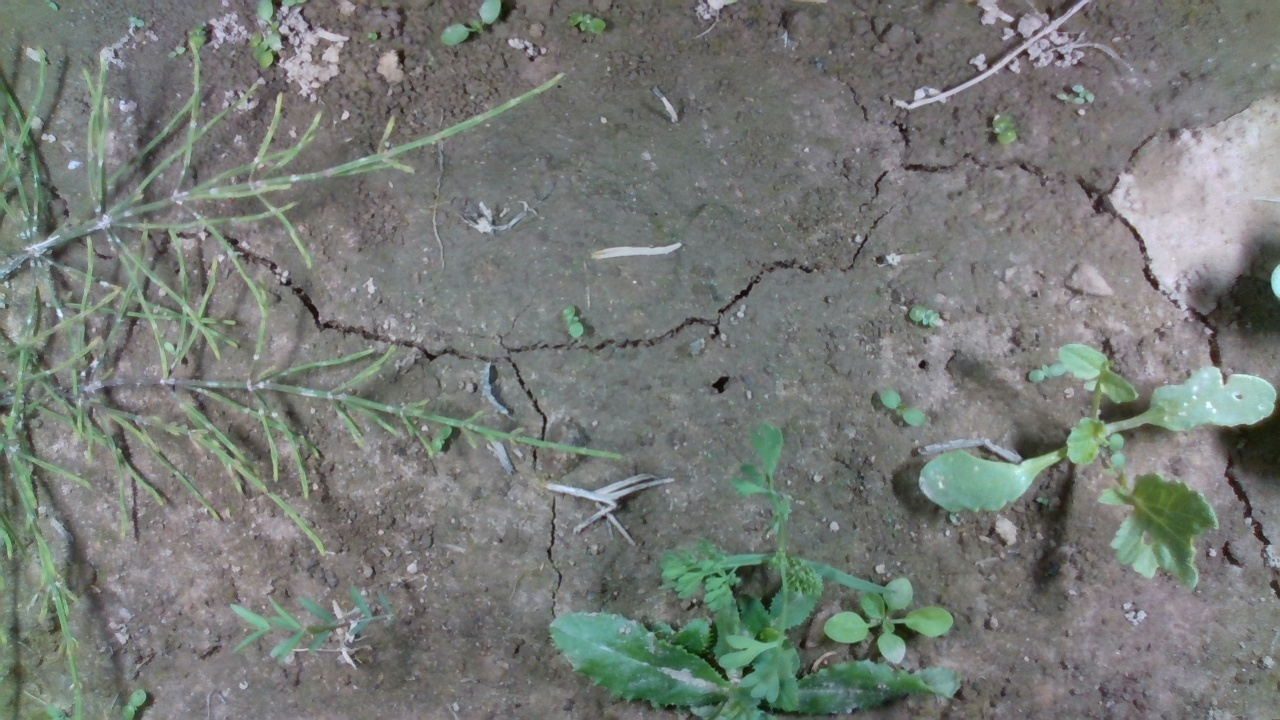weed: (877, 388, 925, 432), (552, 301, 592, 344), (568, 10, 598, 35)
